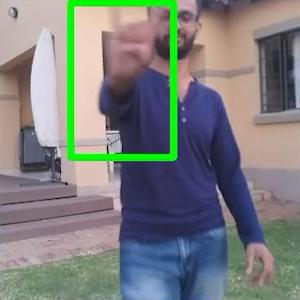takeoff-hand: (99, 1, 161, 86)
